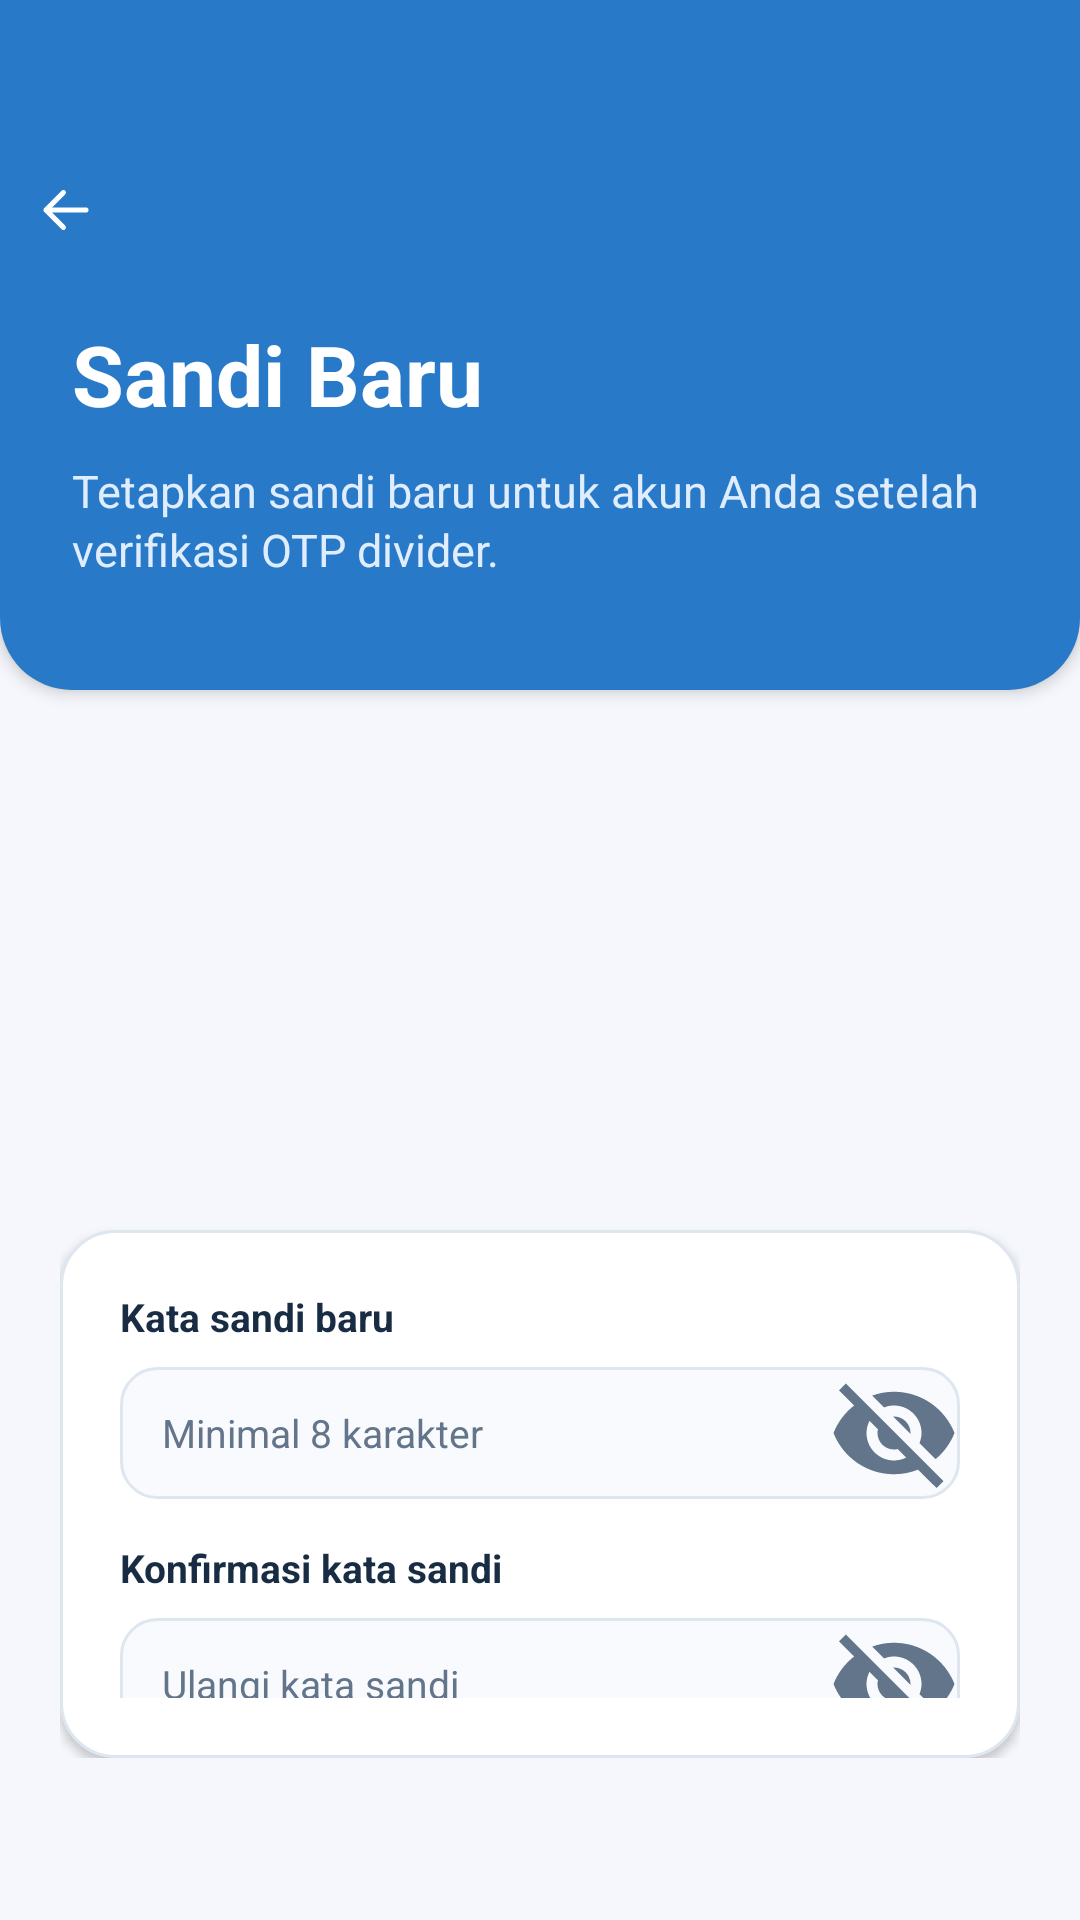

Where icons sit on this 1080w x 1920h app screen, as {"x1": x1, "y1": y1, "x2": x2, "y2": y2}:
Kembali: {"x1": 43, "y1": 190, "x2": 89, "y2": 230}
Tampilkan sandi: {"x1": 833, "y1": 1383, "x2": 955, "y2": 1488}
